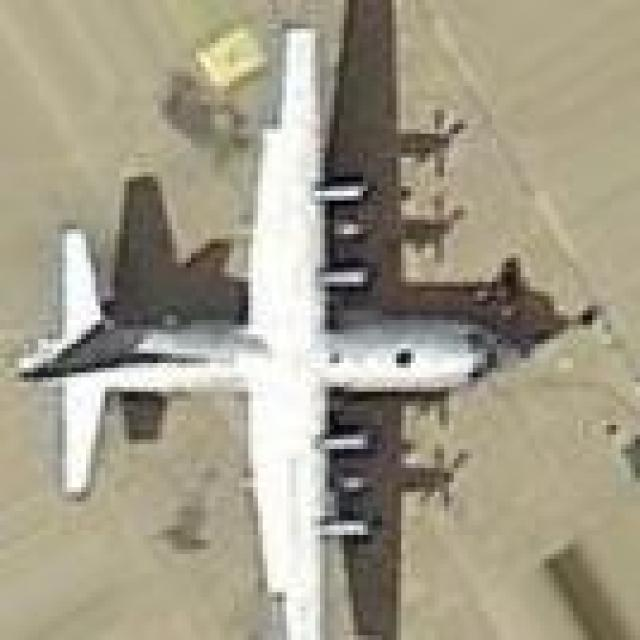C-130_TopDown: (11, 0, 589, 640)
